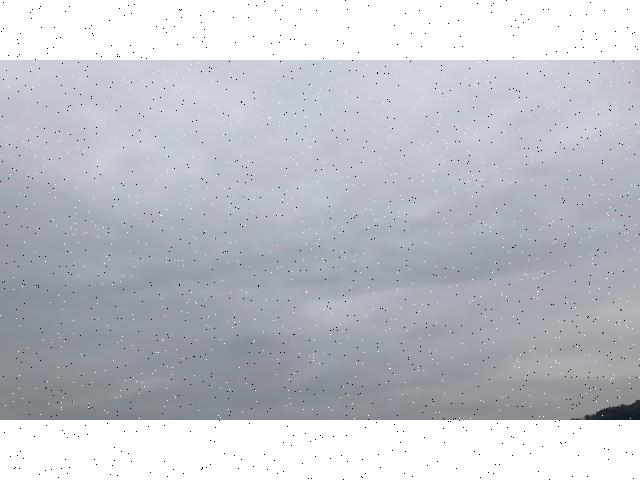Anti-Drone: (236, 191, 252, 201)
